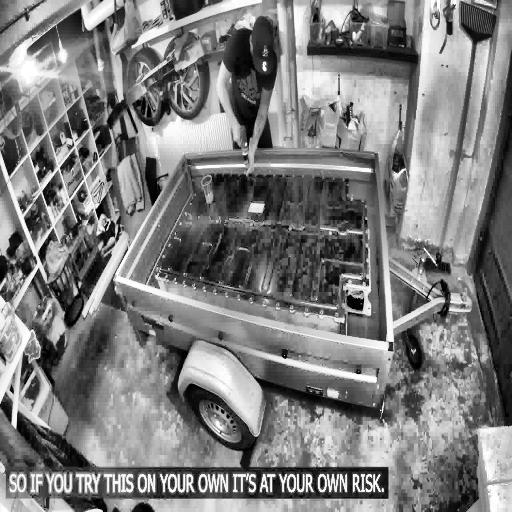b_casing: (151, 169, 369, 319)
